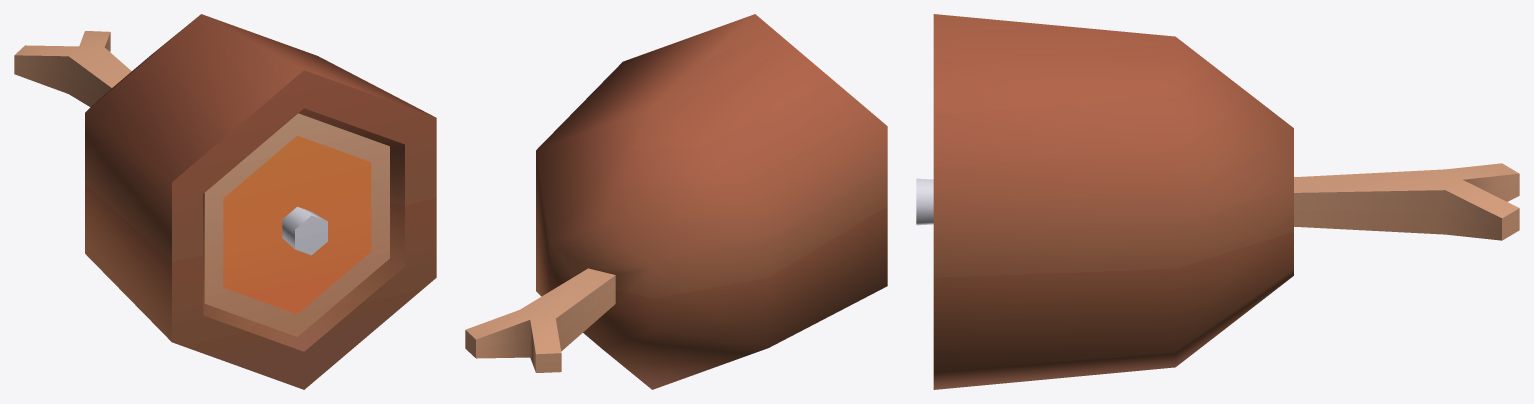
The model's file is whole-ham.9188cdd9a4.glb.
3 views of the same model, side by side, from view 1: azimuth 30°, elevation 25°; view 2: azimuth 150°, elevation 25°; view 3: azimuth 270°, elevation 25° (orthographic). The views are drawn at different scales.
Parts seen in each view (by area): view 1: whole-ham; view 2: whole-ham; view 3: whole-ham.
Part boxes in pixels (box(x1,y1,x2,y2)): whole-ham: box(14, 14, 436, 389); whole-ham: box(465, 14, 887, 389); whole-ham: box(916, 14, 1519, 389).
Size of the model in its own units: 0.381 by 0.4399 by 0.6397.
1 material, 1 textured.
